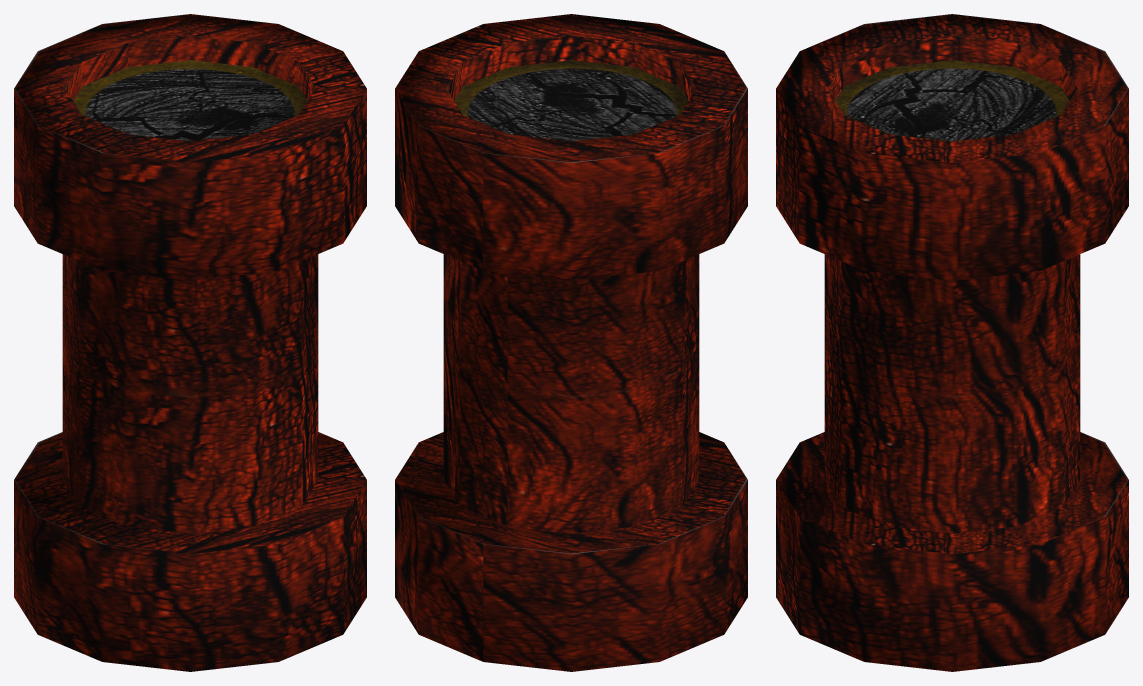
File: Pivot_3.fbx
3 renders of one model, left to right at view 1: azimuth 30°, elevation 25°; view 2: azimuth 150°, elevation 25°; view 3: azimuth 270°, elevation 25°, orthographic.
Visible parts, largest first — view 1: Pivot_3_Model; view 2: Pivot_3_Model; view 3: Pivot_3_Model.
Boxes of the visible parts, <box> form: Pivot_3_Model: <box>14,14,366,671</box>; Pivot_3_Model: <box>395,14,747,671</box>; Pivot_3_Model: <box>776,14,1128,671</box>.
Bounding box in the file's own units: 0.2483 × 0.3951 × 0.2483.
